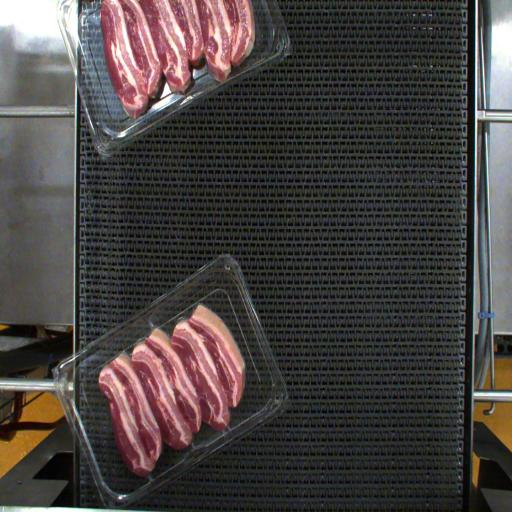packaging-error: (135, 302, 165, 343)
unsealed: (88, 298, 249, 389)
